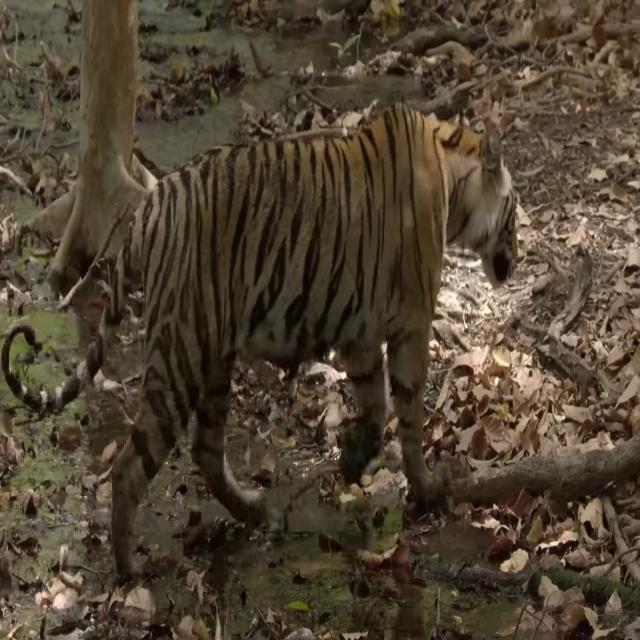tiger: (2, 98, 518, 574)
